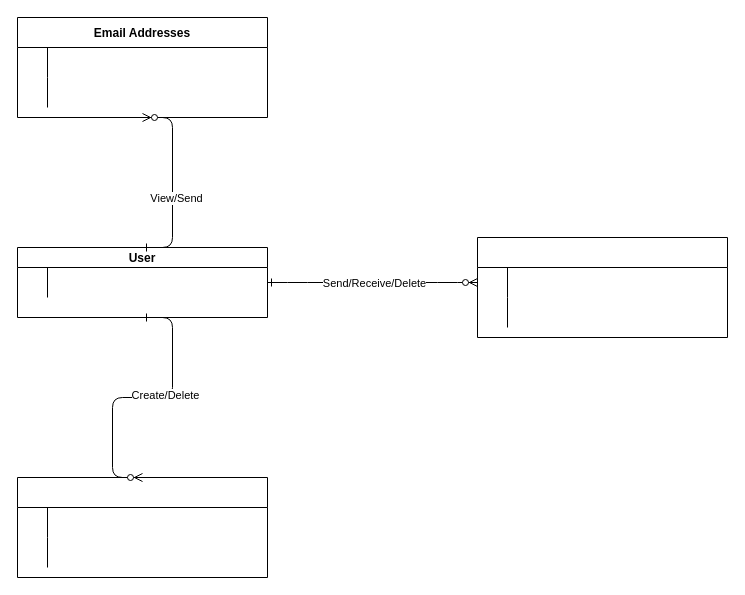
Some shapes in this 745 by 595 pixel diagram are drawn without their labels. The centre of each missing label's shape, as x and y in pixels:
Email: (602,287)
Labels: (142,527)
